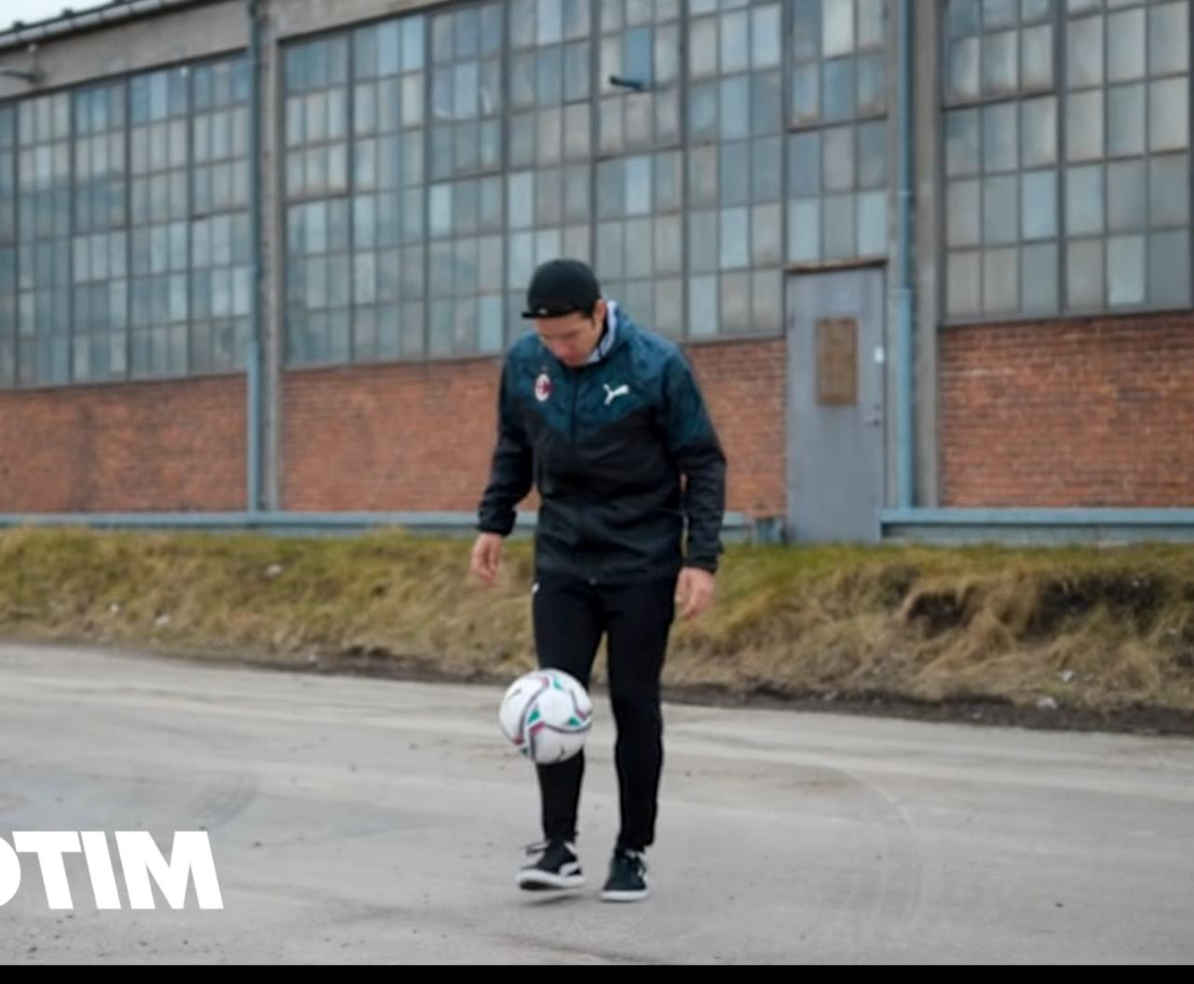ball: (497, 671, 594, 766)
foot: (516, 844, 585, 891), (599, 850, 649, 902)
person: (472, 259, 726, 902)
